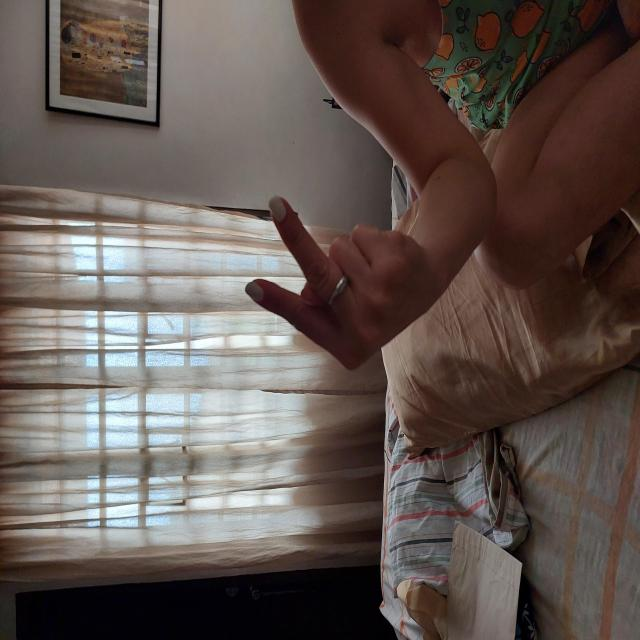K: (264, 243, 450, 431)
